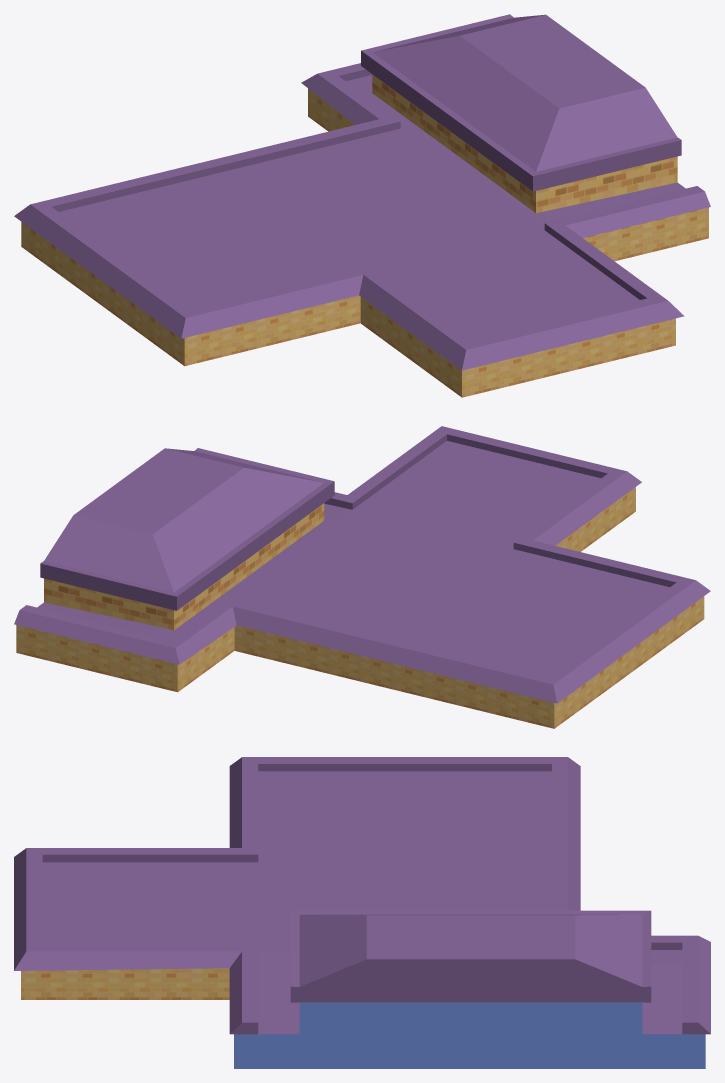
Rendered from Tienda1_Techo_P2.fbx.
The picture shows the model from 3 angles, top to bottom: view 1: azimuth 30°, elevation 25°; view 2: azimuth 150°, elevation 25°; view 3: azimuth 270°, elevation 25°; orthographic projection. The views are drawn at different scales.
Parts seen in each view (by area): view 1: Techo Player 2; view 2: Techo Player 2; view 3: Techo Player 2.
Part boxes in pixels (<box>): Techo Player 2: <box>14,14,710,397</box>; Techo Player 2: <box>14,426,710,728</box>; Techo Player 2: <box>14,757,710,1068</box>.
Bounding box in the file's own units: 1535 × 289 × 1669.
